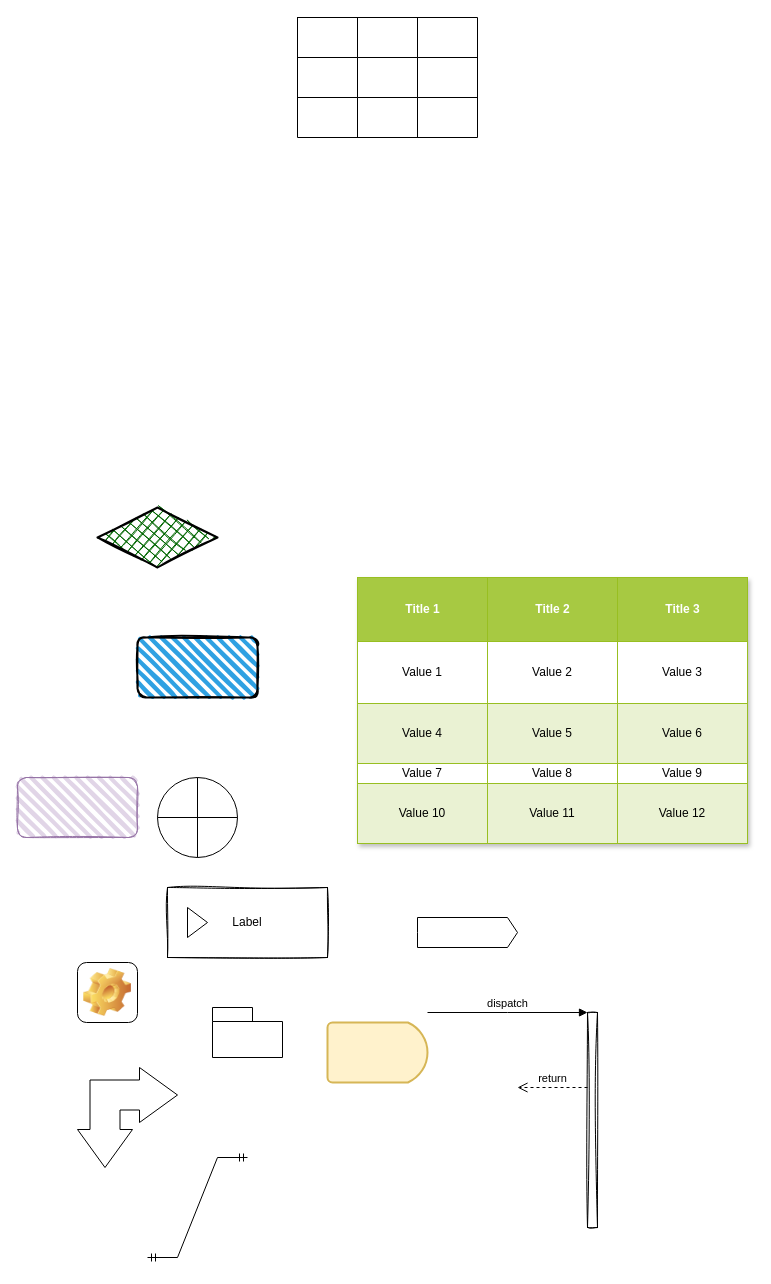
The diagram is 771 pixels wide and 1284 high, and some of its shapes have lost their labels. The shapes that lost their labels are listed below. From the top down, each one's centre as x and y in pixels, then its label:
pixel 107 992: Icon
pixel 247 1032: package
